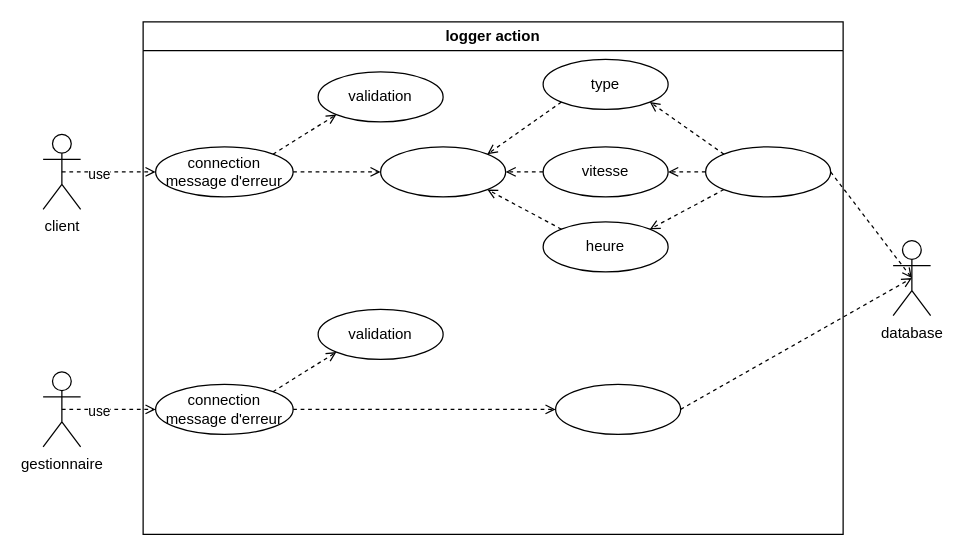
Some shapes in this 964 by 556 pixel diagram are drawn without their labels. Each missing label, with the centre of its shape:
"action" goes at point (442, 171).
"recherche" goes at point (617, 408).
"record" goes at point (767, 171).
